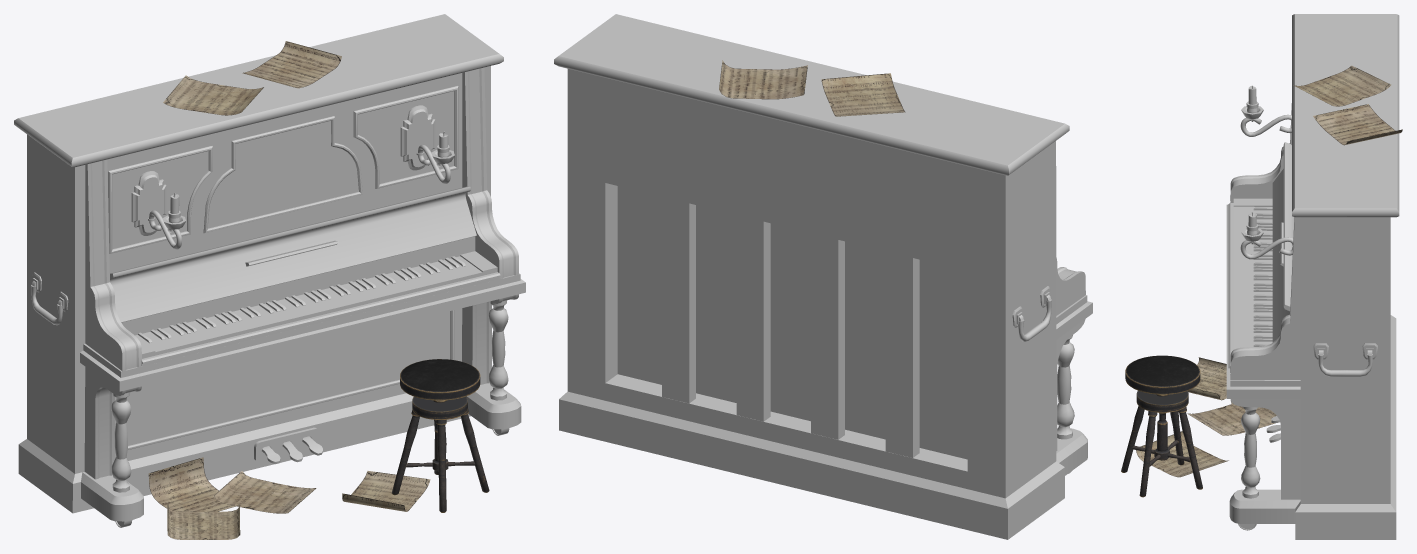
File: Piano Sketchfab.fbx
3 renders of one model, left to right at view 1: azimuth 30°, elevation 25°; view 2: azimuth 150°, elevation 25°; view 3: azimuth 270°, elevation 25°, orthographic. The views are drawn at different scales.
Parts seen in each view (by area): view 1: Cube.013, Cube.214, Cube.211, Cube.212, Cube.116, Cube.213, Circle.006, Cube.216, Cube.222, Cube.223, Cylinder.007, Cube.215 (+15 smaller); view 2: Cube.013, Cube.014, Plane.018, Plane.021, Cube.211, Cylinder.007, Cube.216, Cube.212; view 3: Cube.013, Cube.211, Cube.116, Circle.006, Cube.214, Plane.021, Plane.018, Cube.216, Cube.212, Plane.020, Plane.009, Cylinder.007 (+10 smaller).
Part boxes in pixels (x1,y1,x2,y2): Cube.013: [14, 14, 503, 513]; Cube.214: [110, 186, 476, 322]; Cube.211: [84, 67, 519, 479]; Cube.212: [80, 273, 525, 391]; Cube.116: [135, 256, 482, 355]; Cube.213: [121, 236, 475, 335]; Circle.006: [400, 359, 480, 419]; Cube.216: [81, 383, 521, 521]; Cube.222: [131, 105, 435, 235]; Cube.223: [108, 86, 458, 253]; Cylinder.007: [111, 300, 508, 492]; Cube.215: [141, 272, 500, 366]; Cube.013: [554, 14, 1069, 539]; Cube.014: [662, 197, 919, 457]; Plane.018: [821, 73, 905, 116]; Plane.021: [719, 60, 807, 99]; Cube.211: [1056, 257, 1085, 450]; Cylinder.007: [1057, 335, 1074, 439]; Cube.216: [1056, 428, 1087, 475]; Cube.212: [1056, 295, 1092, 339]; Cube.013: [1292, 14, 1399, 539]; Cube.211: [1230, 103, 1300, 499]; Cube.116: [1233, 206, 1272, 349]; Circle.006: [1125, 355, 1200, 412]; Cube.214: [1272, 142, 1294, 341]; Plane.021: [1313, 104, 1402, 145]; Plane.018: [1293, 65, 1391, 106]; Cube.216: [1229, 489, 1300, 523]; Cube.212: [1226, 201, 1300, 398]; Plane.020: [1187, 404, 1276, 435]; Plane.009: [1136, 431, 1228, 477]; Cylinder.007: [1241, 406, 1260, 498].
Bounding box in the file's own units: 962 × 775 × 583.
